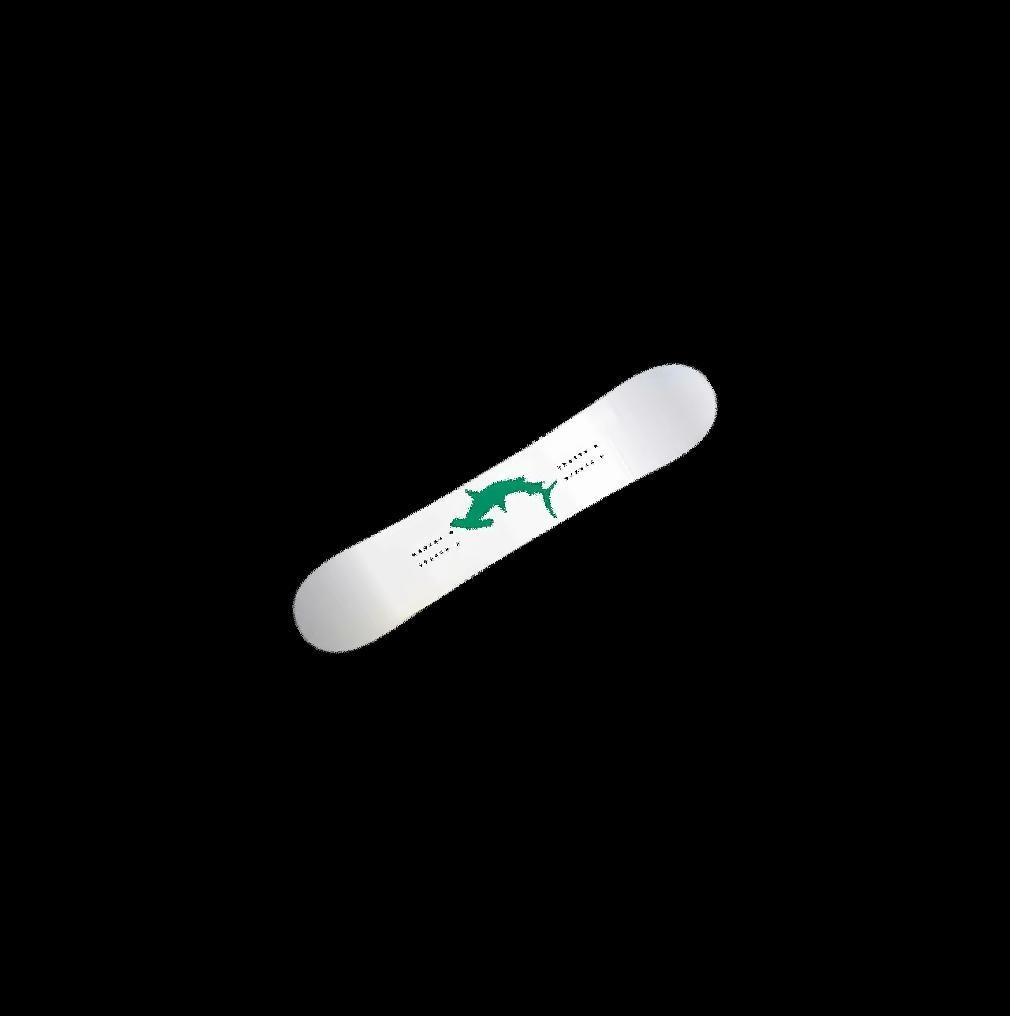Snowboard: (290, 360, 718, 654)
